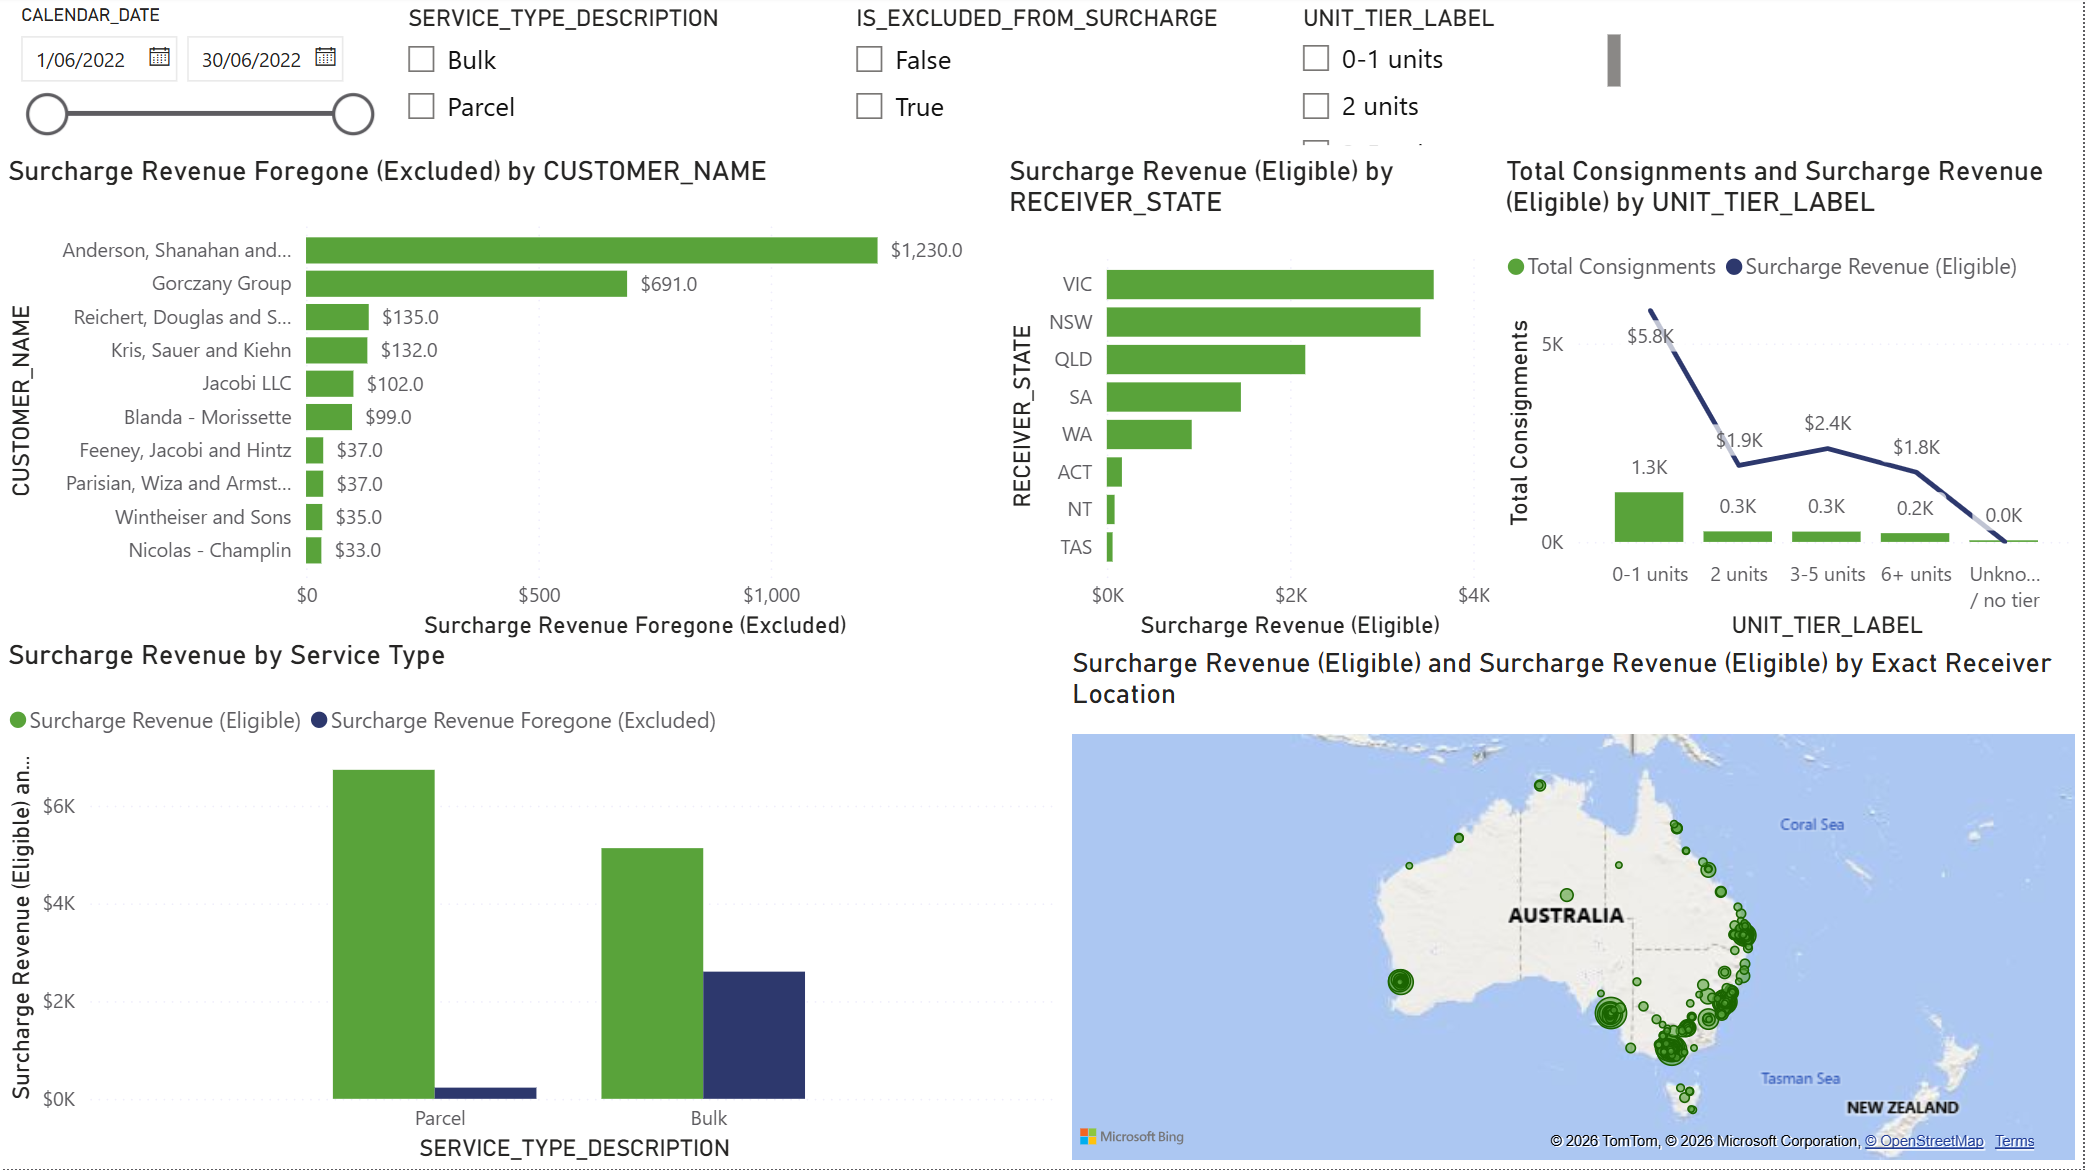

Layout of this report page (visuals, bound fields, positions):
{"tool":"powerbi","page":{"name":"Page 2","canvas":[1280,720],"ordinal":1},"visuals":[{"type":"slicer","fields":{"Values":["DIM_DATE.CALENDAR_DATE"]},"box":[0,0,237.5,96.4],"z":0},{"type":"slicer","fields":{"Values":["FCT_CONSIGNMENT_SURCHARGE.SERVICE_TYPE_DESCRIPTION"]},"box":[237.9,0,275,96.4],"z":1000},{"type":"slicer","fields":{"Values":["DIM_CUSTOMER.IS_EXCLUDED_FROM_SURCHARGE"]},"box":[512.9,0,275,96.4],"z":2000},{"type":"slicer","fields":{"Values":["DIM_UNIT_SURCHARGE.UNIT_TIER_LABEL"]},"box":[787.9,0,212.9,96.4],"z":3000},{"type":"clusteredBarChart","fields":{"Category":["DIM_CUSTOMER.CUSTOMER_NAME"],"Y":["FCT_CONSIGNMENT_SURCHARGE.Surcharge Revenue Foregone (Excluded)"]},"box":[0,96.4,615.1,302],"z":4000},{"type":"lineClusteredColumnComboChart","fields":{"Category":["DIM_UNIT_SURCHARGE.UNIT_TIER_LABEL"],"Y":["FCT_CONSIGNMENT_SURCHARGE.Total Consignments"],"Y2":["FCT_CONSIGNMENT_SURCHARGE.Surcharge Revenue (Eligible)"]},"box":[920.1,96.4,360,302.6],"z":5000},{"type":"clusteredColumnChart","title":"Surcharge Revenue by Service Type","fields":{"Y":["FCT_CONSIGNMENT_SURCHARGE.Surcharge Revenue (Eligible)","FCT_CONSIGNMENT_SURCHARGE.Surcharge Revenue Foregone (Excluded)"],"Category":["FCT_CONSIGNMENT_SURCHARGE.SERVICE_TYPE_DESCRIPTION"]},"box":[0,393.6,655,326.4],"z":6000},{"type":"map","fields":{"Category":["DIM_RECEIVER_LOCATION.Exact Receiver Location"],"Size":["FCT_CONSIGNMENT_SURCHARGE.Surcharge Revenue (Eligible)"]},"box":[653.6,398.6,626.4,321.4],"z":7000},{"type":"clusteredBarChart","fields":{"Category":["DIM_RECEIVER_LOCATION.RECEIVER_STATE"],"Y":["FCT_CONSIGNMENT_SURCHARGE.Surcharge Revenue (Eligible)"]},"box":[615.1,96.4,305.1,302],"z":8000}]}

Visuals, with their boxes in screenshot pixels (x1, y1, x2, y2), scaled from the page's 1280x720 canvas onto the 2087x1170 screenshot:
slicer - DIM_DATE.CALENDAR_DATE: bbox(0, 0, 387, 157)
slicer - FCT_CONSIGNMENT_SURCHARGE.SERVICE_TYPE_DESCRIPTION: bbox(388, 0, 836, 157)
slicer - DIM_CUSTOMER.IS_EXCLUDED_FROM_SURCHARGE: bbox(836, 0, 1285, 157)
slicer - DIM_UNIT_SURCHARGE.UNIT_TIER_LABEL: bbox(1285, 0, 1632, 157)
clusteredBarChart - DIM_CUSTOMER.CUSTOMER_NAME x FCT_CONSIGNMENT_SURCHARGE.Surcharge Revenue Foregone (Excluded): bbox(0, 157, 1003, 647)
lineClusteredColumnComboChart - DIM_UNIT_SURCHARGE.UNIT_TIER_LABEL x FCT_CONSIGNMENT_SURCHARGE.Total Consignments: bbox(1500, 157, 2086, 648)
"Surcharge Revenue by Service Type" clusteredColumnChart: bbox(0, 640, 1068, 1169)
map - DIM_RECEIVER_LOCATION.Exact Receiver Location x FCT_CONSIGNMENT_SURCHARGE.Surcharge Revenue (Eligible): bbox(1066, 648, 2086, 1169)
clusteredBarChart - DIM_RECEIVER_LOCATION.RECEIVER_STATE x FCT_CONSIGNMENT_SURCHARGE.Surcharge Revenue (Eligible): bbox(1003, 157, 1500, 647)
